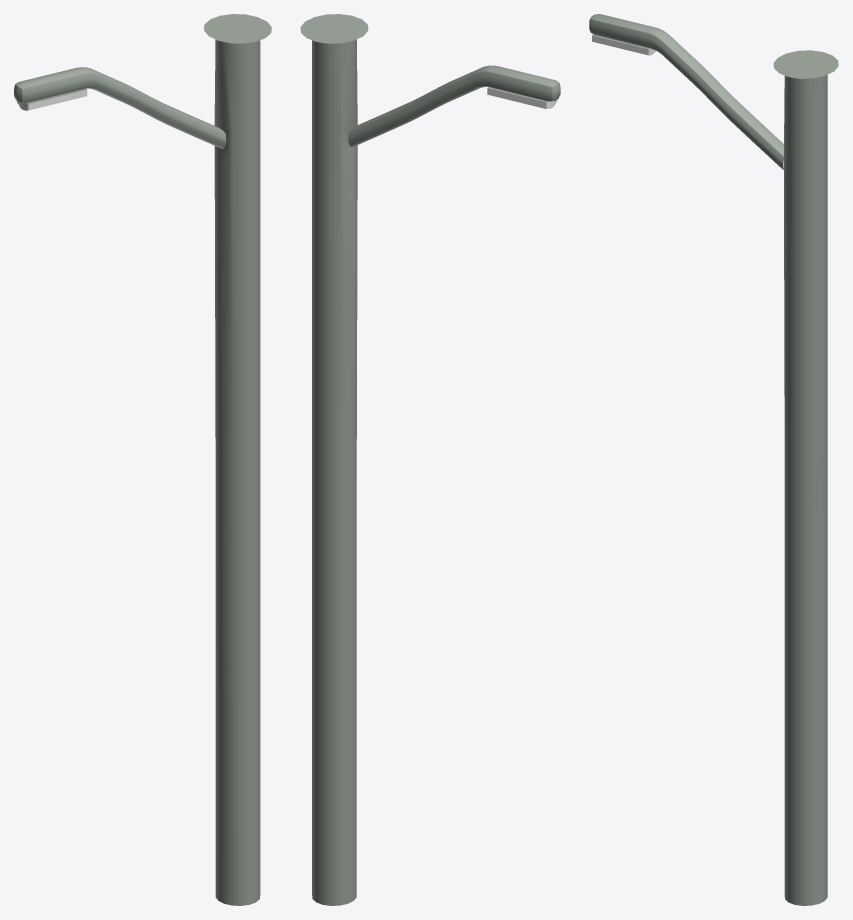
File: Pole.fbx
3 renders of one model, left to right at view 1: azimuth 30°, elevation 25°; view 2: azimuth 150°, elevation 25°; view 3: azimuth 330°, elevation 25°, orthographic. The views are drawn at different scales.
Parts seen in each view (by area): view 1: Cylinder; view 2: Cylinder; view 3: Cylinder.
Boxes of the visible parts, box(x1,y1,x2,y2) form: Cylinder: box(14, 14, 271, 905); Cylinder: box(300, 14, 560, 905); Cylinder: box(589, 14, 838, 905).
Size of the model in its own units: 111 by 364 by 27.25.
Materials: 1 (1 with a texture image).
